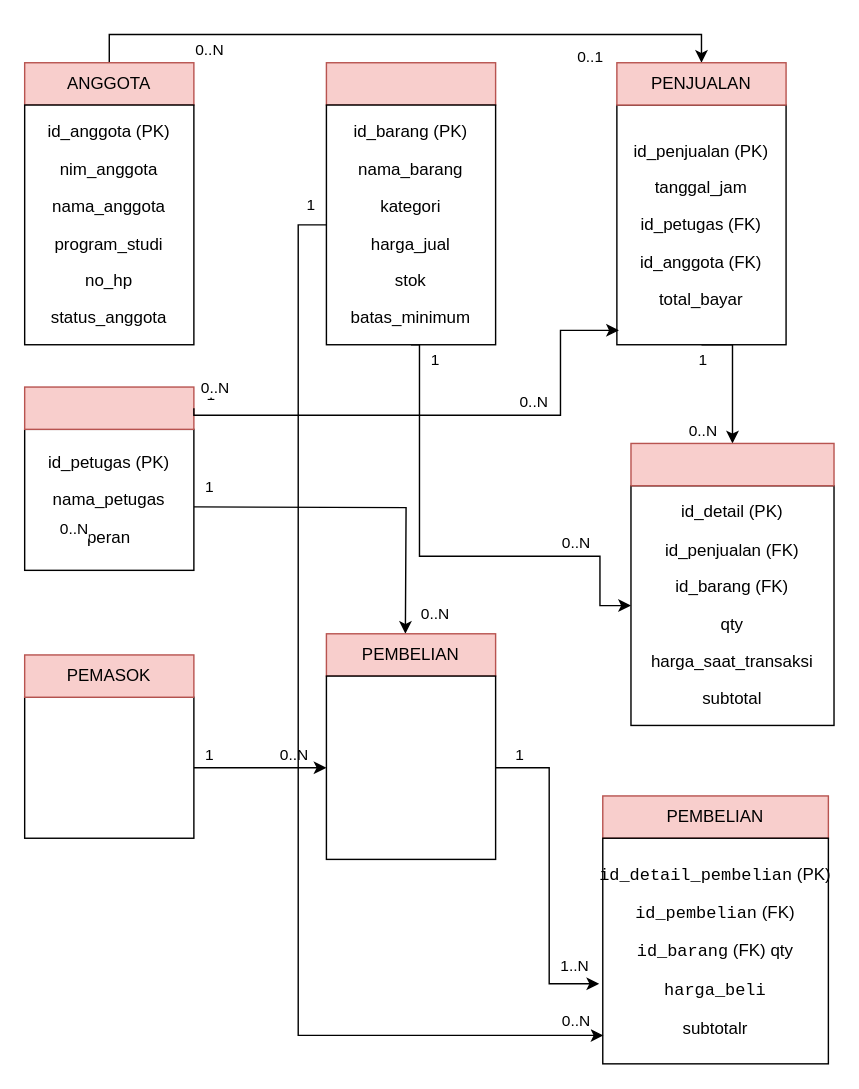
This 859x1089 diagram has some shape labels left out. Here are the shapes that lost their labels. From the top down, the box of each, then its label:
(325, 61, 496, 105): BARANG
(23, 386, 194, 429): PETUGAS
(630, 442, 834, 486): DETAIL_PENJUALAN
(23, 696, 194, 838): id_pemasok (PK) nama_pemasok no_telepon alamat
(325, 675, 496, 859): id_pembelian (PK) tanggal_pembelian id_pemasok (FK) id_petugas (FK) nomor_faktur
